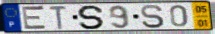0: (168, 4, 190, 29)
9: (108, 4, 131, 30)
E: (21, 5, 49, 31)
S: (77, 5, 107, 31), (139, 4, 166, 29)
T: (48, 5, 69, 30)
